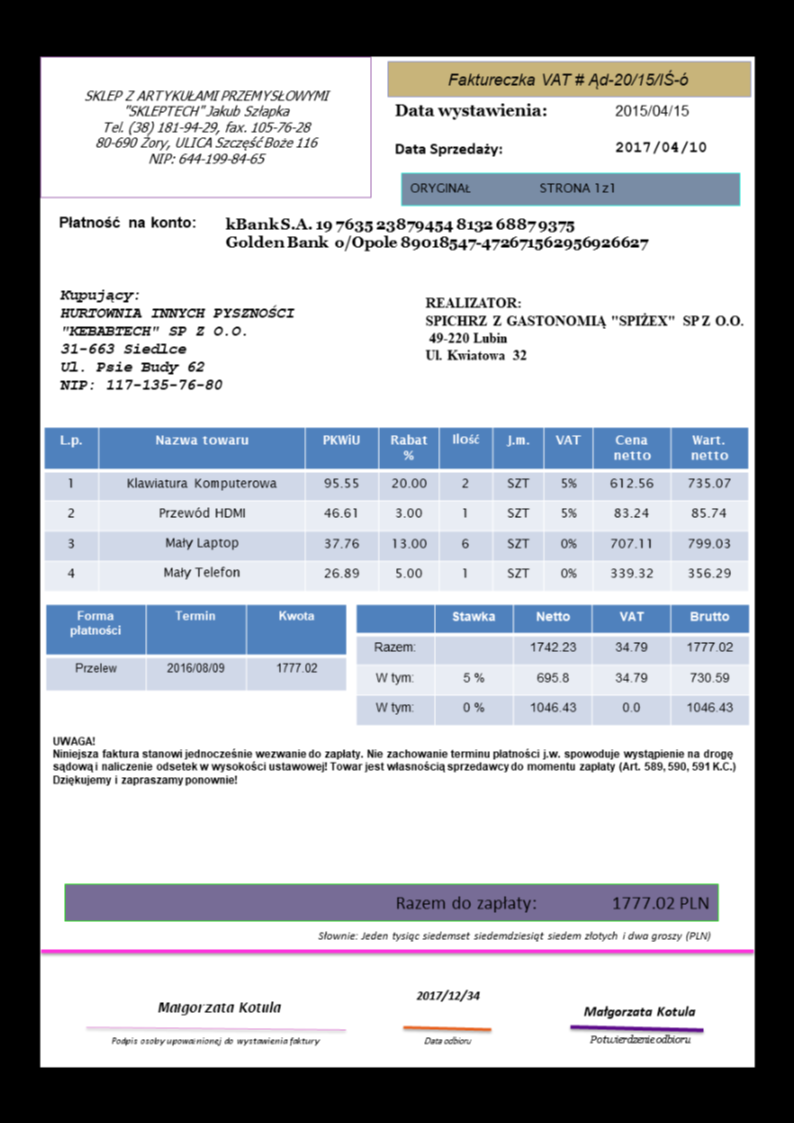Table: (42, 423, 750, 593), (352, 602, 750, 728), (44, 602, 348, 691)
TextBox: (49, 730, 739, 789), (54, 284, 297, 393), (420, 292, 747, 364), (80, 80, 333, 170), (221, 212, 652, 252), (391, 888, 710, 913), (314, 926, 716, 944), (443, 66, 694, 89), (407, 177, 618, 198), (392, 97, 551, 120), (105, 1033, 323, 1048), (154, 993, 284, 1017), (52, 212, 200, 233), (389, 137, 509, 160), (577, 1000, 700, 1020), (611, 134, 710, 157), (609, 97, 690, 122), (583, 1032, 694, 1047), (412, 986, 482, 1004), (420, 1033, 474, 1050)
